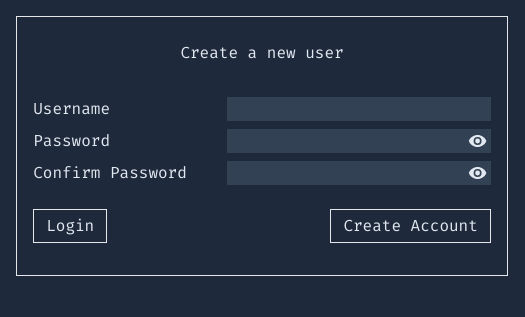
Test: CreateUser › render submission errors when... › the form attempts to submit with not matching passwords
Fill in the form
Type "james" into the field named "username-input". click: (359, 109)
box: [227, 97, 491, 121]
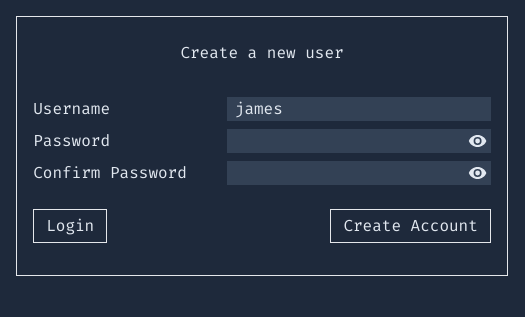
Type "123456" into the password field named "password-input". click: (359, 141)
box: [227, 129, 491, 153]
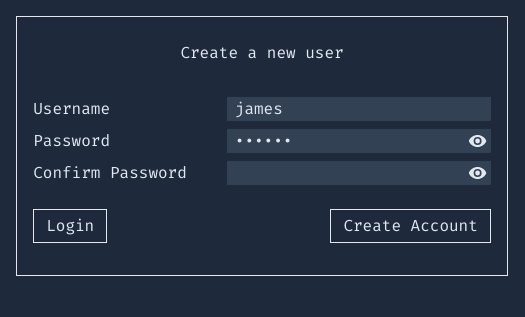
Type "12345" into the password field named "confirmPassword-input". click: (359, 173)
box: [227, 161, 491, 185]
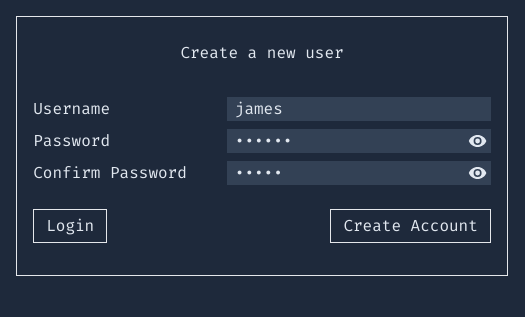
Attempt to submit the form
Click the button "Create Account". click: (411, 226)
box: [330, 209, 491, 243]
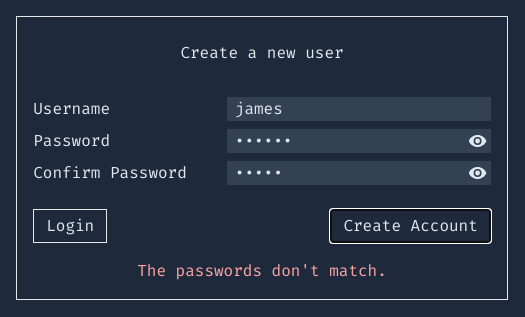
Expected: the text "The passwords don't match." is shown, [137, 260, 387, 281]
